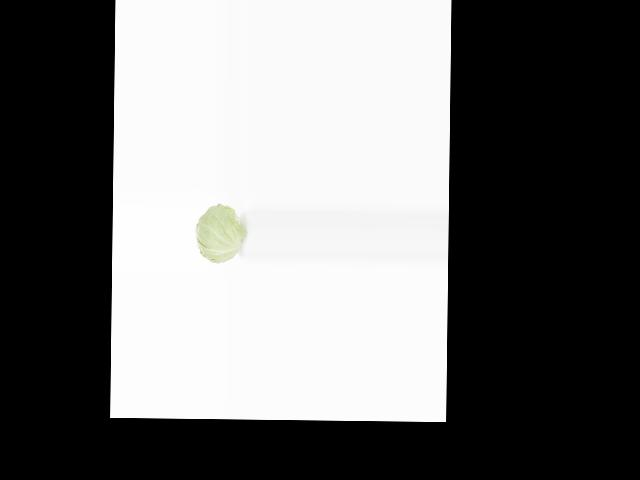lettuce: (194, 201, 240, 267)
